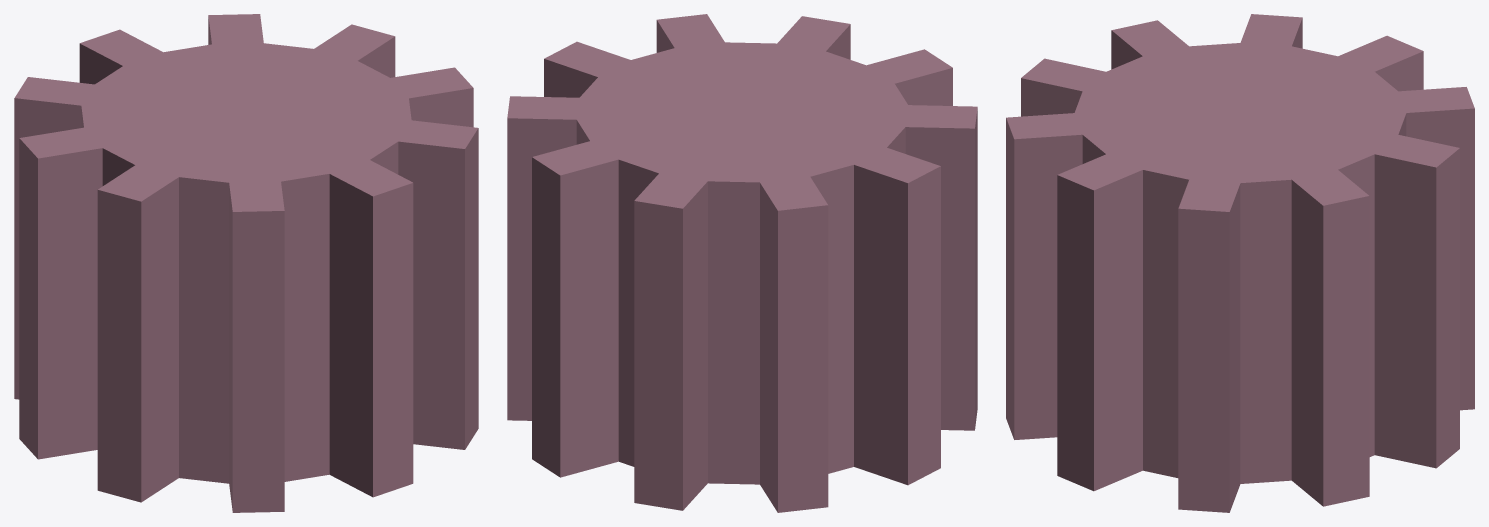
3 views of the same model, side by side, from view 1: azimuth 30°, elevation 25°; view 2: azimuth 150°, elevation 25°; view 3: azimuth 270°, elevation 25° (orthographic).
Visible parts, largest first — view 1: pCylinder1; view 2: pCylinder1; view 3: pCylinder1.
Part boxes in pixels (x1,y1,x2,y2): pCylinder1: (14, 14, 478, 512); pCylinder1: (507, 14, 977, 512); pCylinder1: (1006, 14, 1474, 512).
Bounding box in the file's own units: 2.82 × 2 × 2.82.
